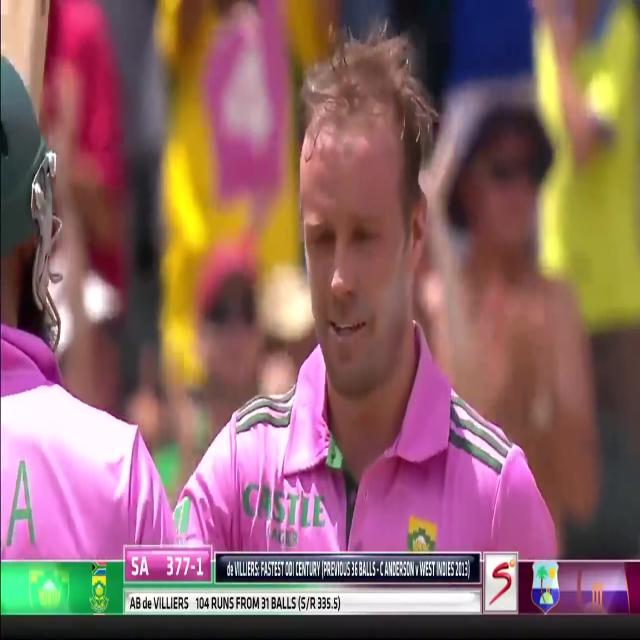Ball: (212, 3, 554, 557), (0, 55, 164, 565)
